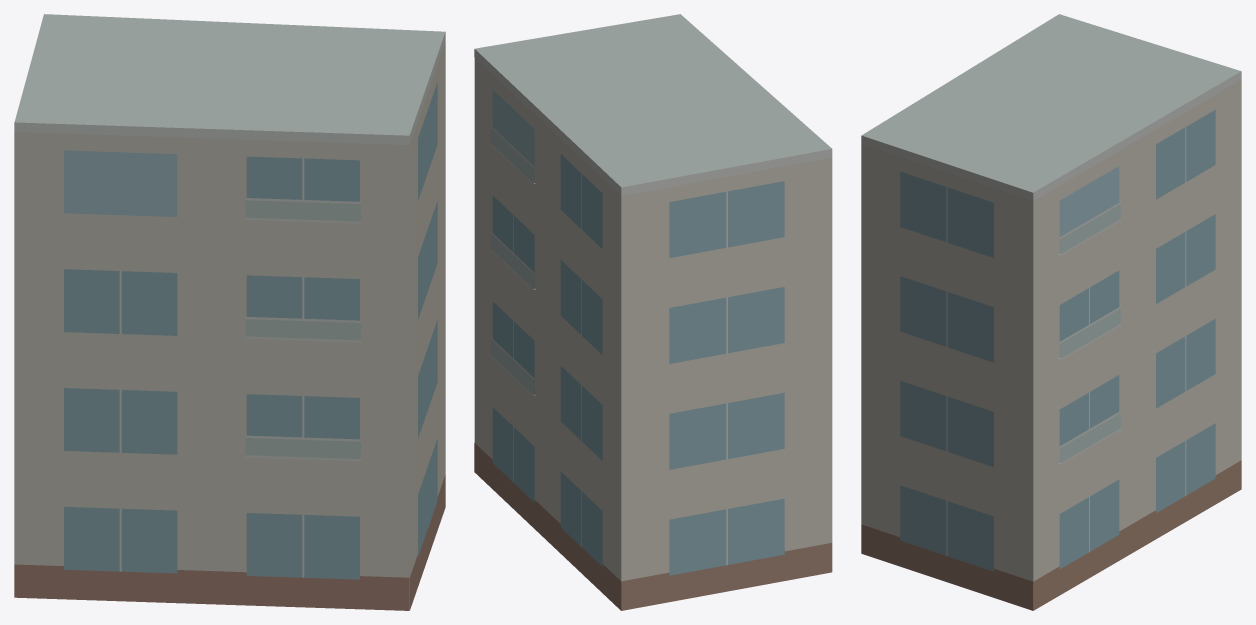
The model's file is survey-upis-32604009.glb.
The picture shows the model from 3 angles, left to right: view 1: azimuth 30°, elevation 25°; view 2: azimuth 150°, elevation 25°; view 3: azimuth 270°, elevation 25°; orthographic projection. The views are drawn at different scales.
Visible parts, largest first — view 1: survey-upis-32604009.tmp; view 2: survey-upis-32604009.tmp; view 3: survey-upis-32604009.tmp.
Part boxes in pixels (<box>): survey-upis-32604009.tmp: <box>14,14,445,610</box>; survey-upis-32604009.tmp: <box>474,14,832,610</box>; survey-upis-32604009.tmp: <box>861,14,1241,610</box>.
Bounding box in the file's own units: 11.2 × 12.2 × 10.06.
